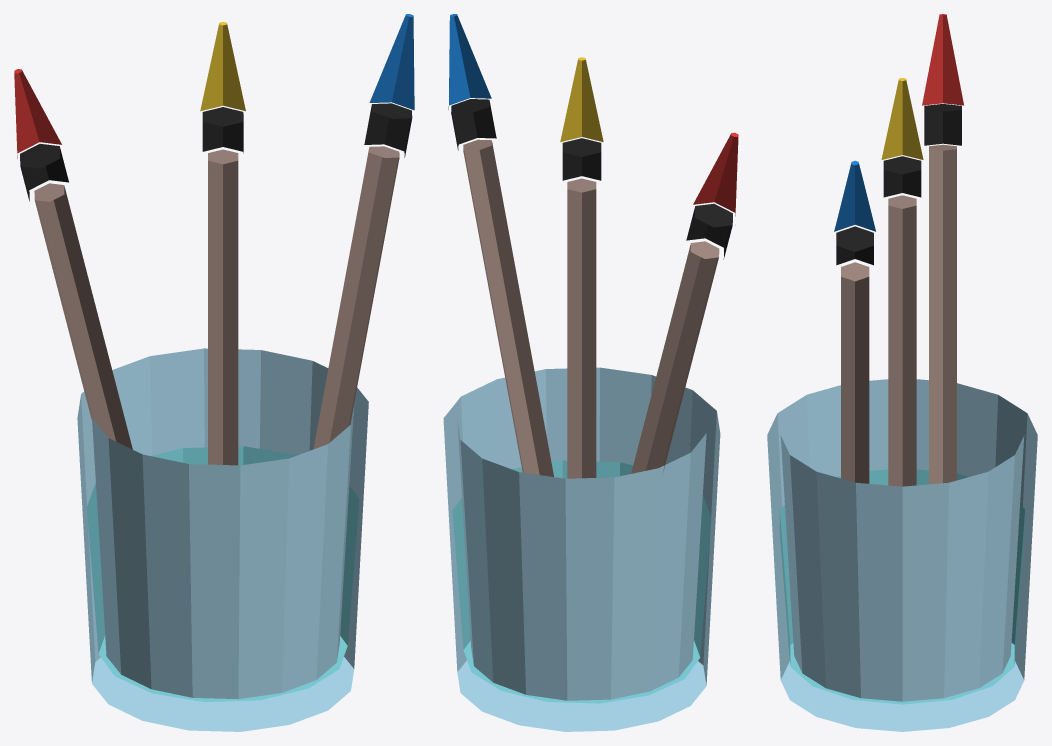
The model's file is pensel.glb.
The picture shows the model from 3 angles, left to right: view 1: azimuth 30°, elevation 25°; view 2: azimuth 150°, elevation 25°; view 3: azimuth 270°, elevation 25°; orthographic projection. The views are drawn at different scales.
Parts seen in each view (by area): view 1: pensel; view 2: pensel; view 3: pensel.
Part boxes in pixels (x1,y1,x2,y2): pensel: [14, 14, 414, 731]; pensel: [443, 14, 738, 731]; pensel: [767, 14, 1037, 731].
Size of the model in its own units: 0.2769 by 0.49 by 0.2.
